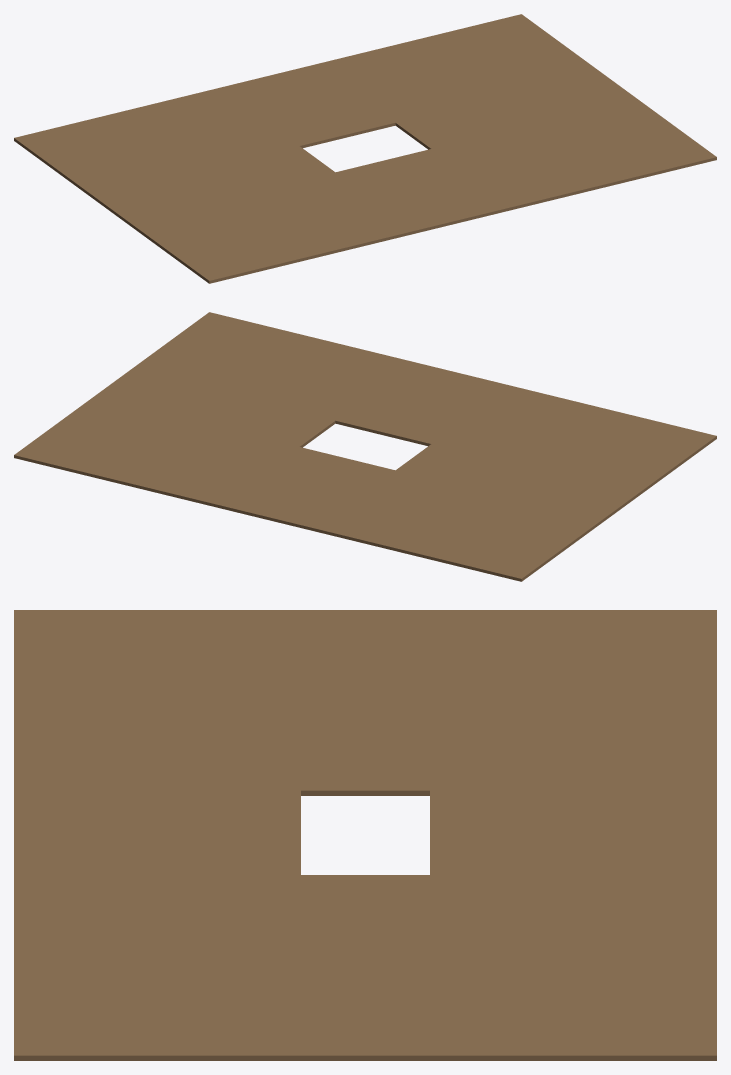
Rendered from hero-ground-surround.glb.
3 renders of one model, top to bottom at view 1: azimuth 30°, elevation 25°; view 2: azimuth 150°, elevation 25°; view 3: azimuth 270°, elevation 25°, orthographic. The views are drawn at different scales.
Visible parts, largest first — view 1: Continuous garden ground surround; view 2: Continuous garden ground surround; view 3: Continuous garden ground surround.
Part boxes in pixels (left/top/right/bottom): Continuous garden ground surround: left=14, top=14, right=716, bottom=283; Continuous garden ground surround: left=14, top=312, right=716, bottom=581; Continuous garden ground surround: left=14, top=610, right=716, bottom=1060.
Bounding box in the file's own units: 9 × 0.05 × 6.
